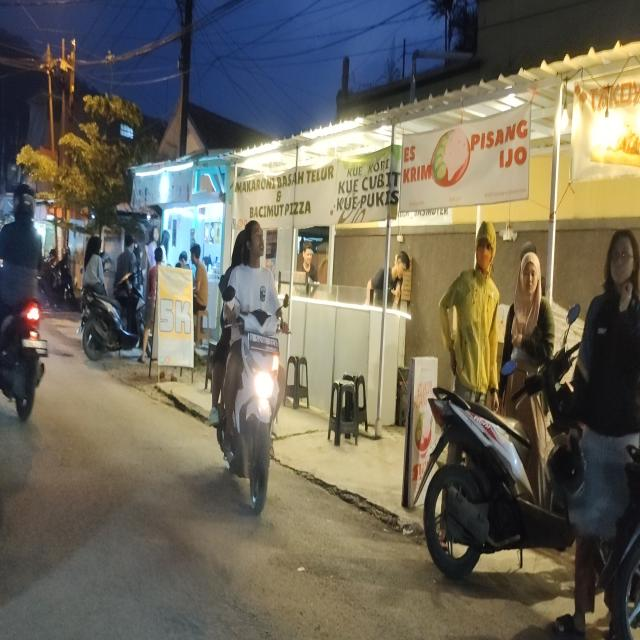helmet: (13, 183, 37, 220)
no-helmet: (244, 222, 265, 259), (232, 231, 251, 264)
